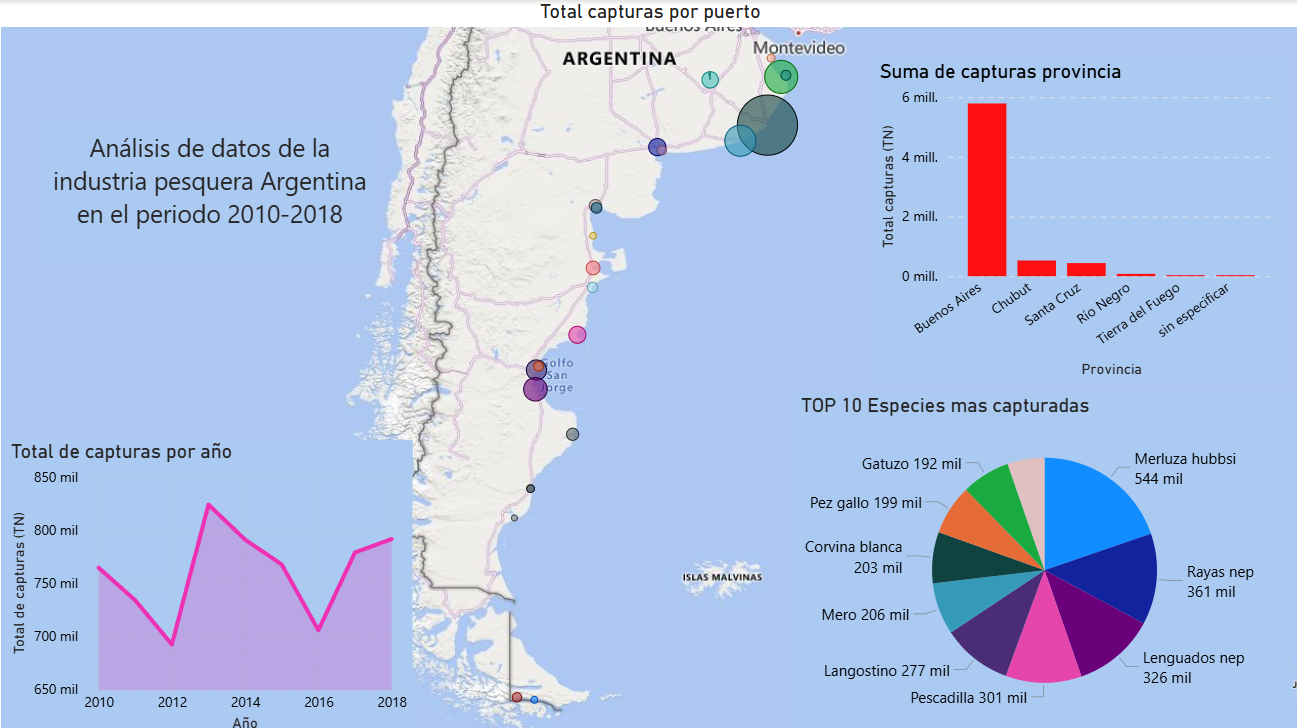

What the dashboard file says about the page in this screenshot:
{"tool":"powerbi","page":{"name":"Página 1","canvas":[1280,720],"ordinal":0},"visuals":[{"type":"map","title":"Total capturas por puerto","fields":{"Y":["captura-puerto-flota-2010-2018 (2).latitud"],"Series":["captura-puerto-flota-2010-2018 (2).puerto"],"X":["captura-puerto-flota-2010-2018 (2).longitud"],"Size":["Sum(captura-puerto-flota-2010-2018 (2).captura_toneladas)"]},"box":[0,0,1280.3,720.2],"z":0},{"type":"clusteredColumnChart","title":"Suma de capturas provincia","fields":{"Y":["Sum(captura-puerto-flota-2010-2018 (2).captura_toneladas)"],"Category":["captura-puerto-flota-2010-2018 (2).provincia"]},"box":[859.7,58.7,397.4,315.5],"z":1000},{"type":"lineChart","title":"Total de capturas por año","fields":{"Y":["Sum(captura-puerto-flota-2010-2018 (2).captura_toneladas)"],"Category":["captura-puerto-flota-2010-2018 (2).año"]},"box":[9.8,430.4,397.4,289.8],"z":2000},{"type":"pieChart","title":"   TOP 10 Especies mas capturadas","fields":{"Category":["captura-puerto-flota-2010-2018 (2).especie"],"Y":["Sum(captura-puerto-flota-2010-2018 (2).captura_toneladas)"]},"box":[782.6,385.2,486.7,324.1],"z":3000},{"type":"textbox","box":[47.7,123.5,322.8,128.4],"z":3001}]}

Visuals, with their boxes in screenshot pixels (x1, y1, x2, y2), scaled from the page's 1280x720 canvas onto the 1297x728 screenshot:
"Total capturas por puerto" map: [x1=0, y1=0, x2=1296, y2=727]
"Suma de capturas provincia" clusteredColumnChart: [x1=871, y1=59, x2=1274, y2=378]
"Total de capturas por año" lineChart: [x1=10, y1=435, x2=413, y2=727]
"   TOP 10 Especies mas capturadas" pieChart: [x1=793, y1=389, x2=1286, y2=717]
textbox: [x1=48, y1=125, x2=375, y2=255]
